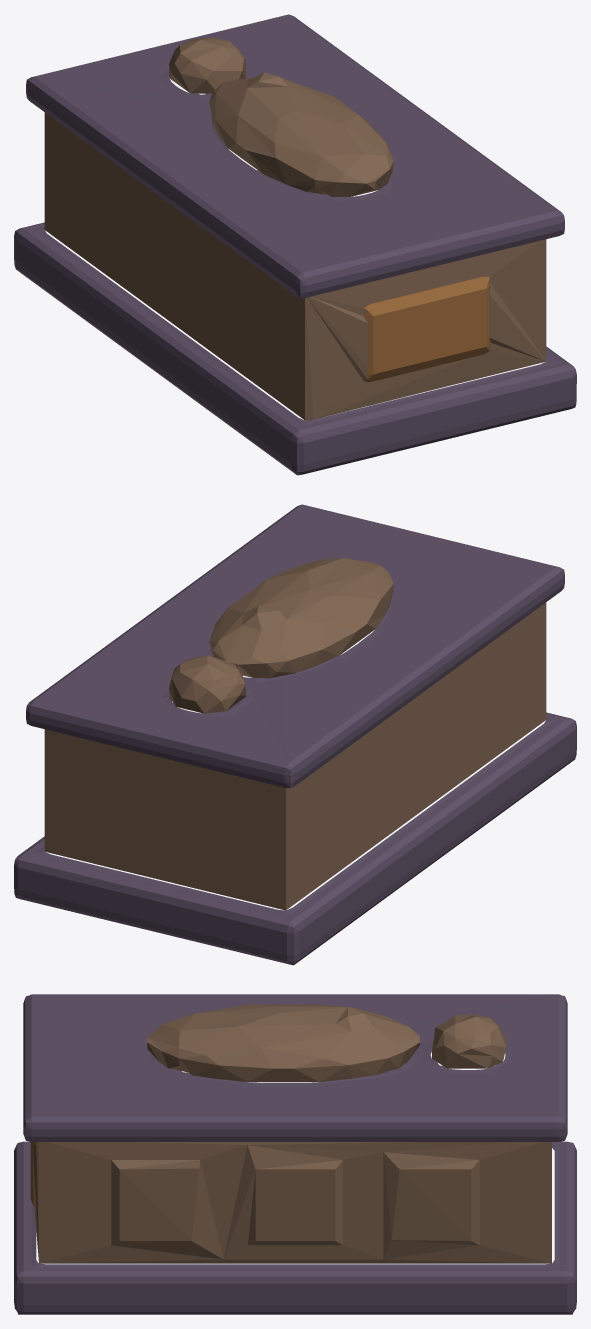
Rendered from sarcophagus.glb.
3 renders of one model, top to bottom at view 1: azimuth 30°, elevation 25°; view 2: azimuth 150°, elevation 25°; view 3: azimuth 270°, elevation 25°, orthographic.
Visible parts, largest first — view 1: sarcophagus; view 2: sarcophagus; view 3: sarcophagus.
Part boxes in pixels (bbox=[...]): sarcophagus: bbox=[14, 14, 576, 475]; sarcophagus: bbox=[14, 504, 576, 965]; sarcophagus: bbox=[14, 994, 576, 1314].
Size of the model in its own units: 1.4 by 1.13 by 2.44.
